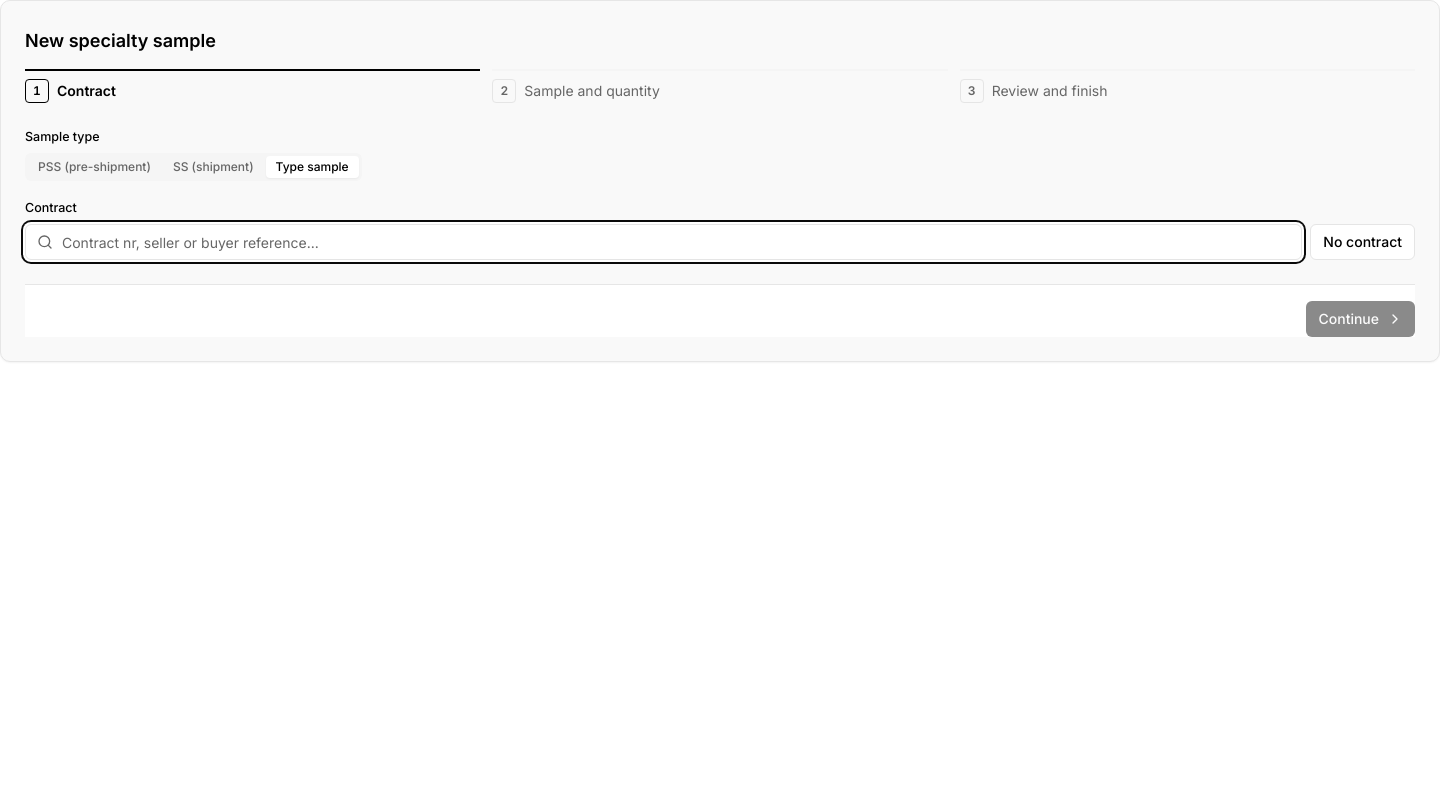
Test case: SampleIntakeForm — specialty only › drops a commodity quality and lists only the specialty ones
Click the button "No contract" at (1363, 242), box 1310,224 -> 1415,260
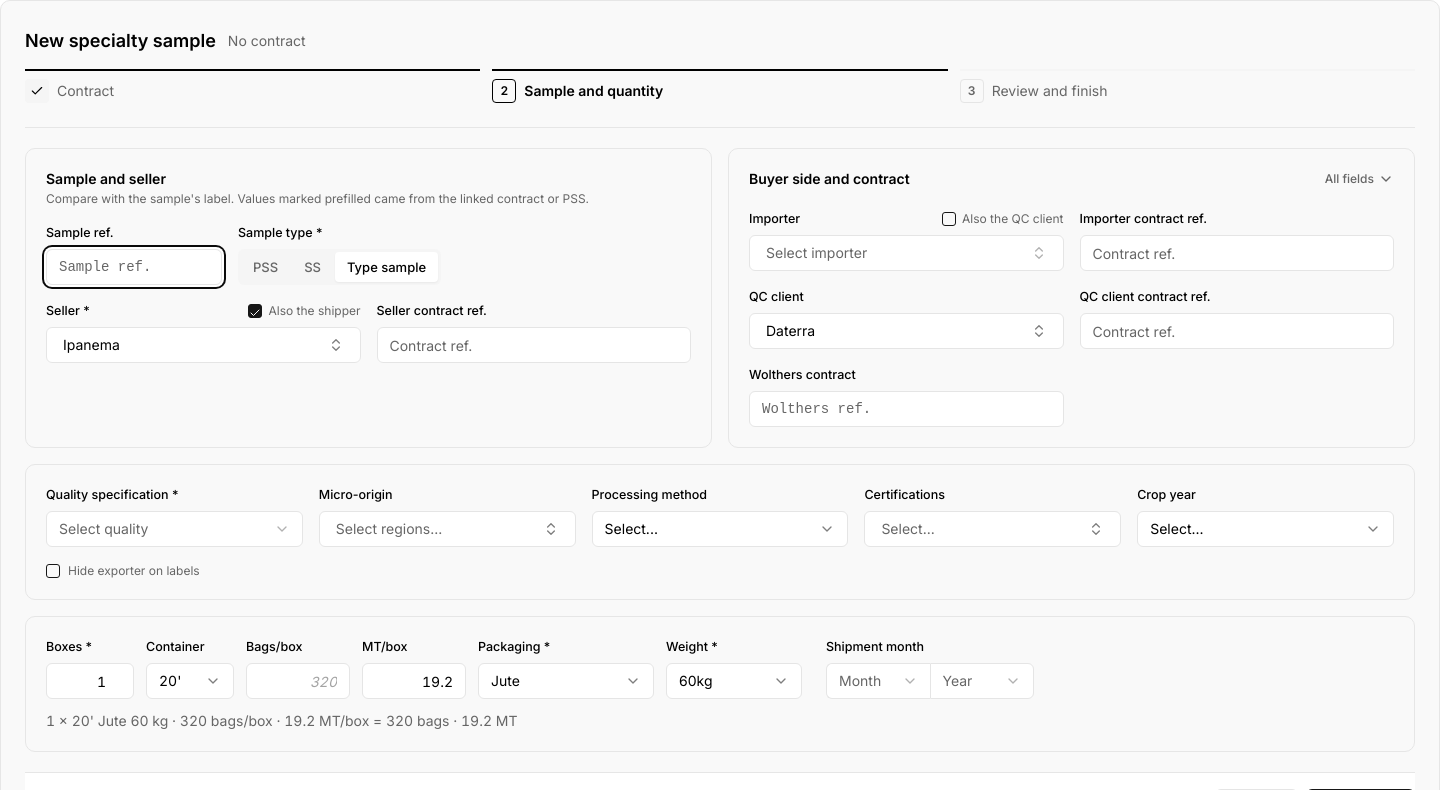
Check: the list item "2 Sample and quantity" is shown, box 492,69 -> 948,103
Check: the dropdown labelled "Select quality" is shown
Press Enter in the dropdown labelled "Select quality", box 46,511 -> 303,547
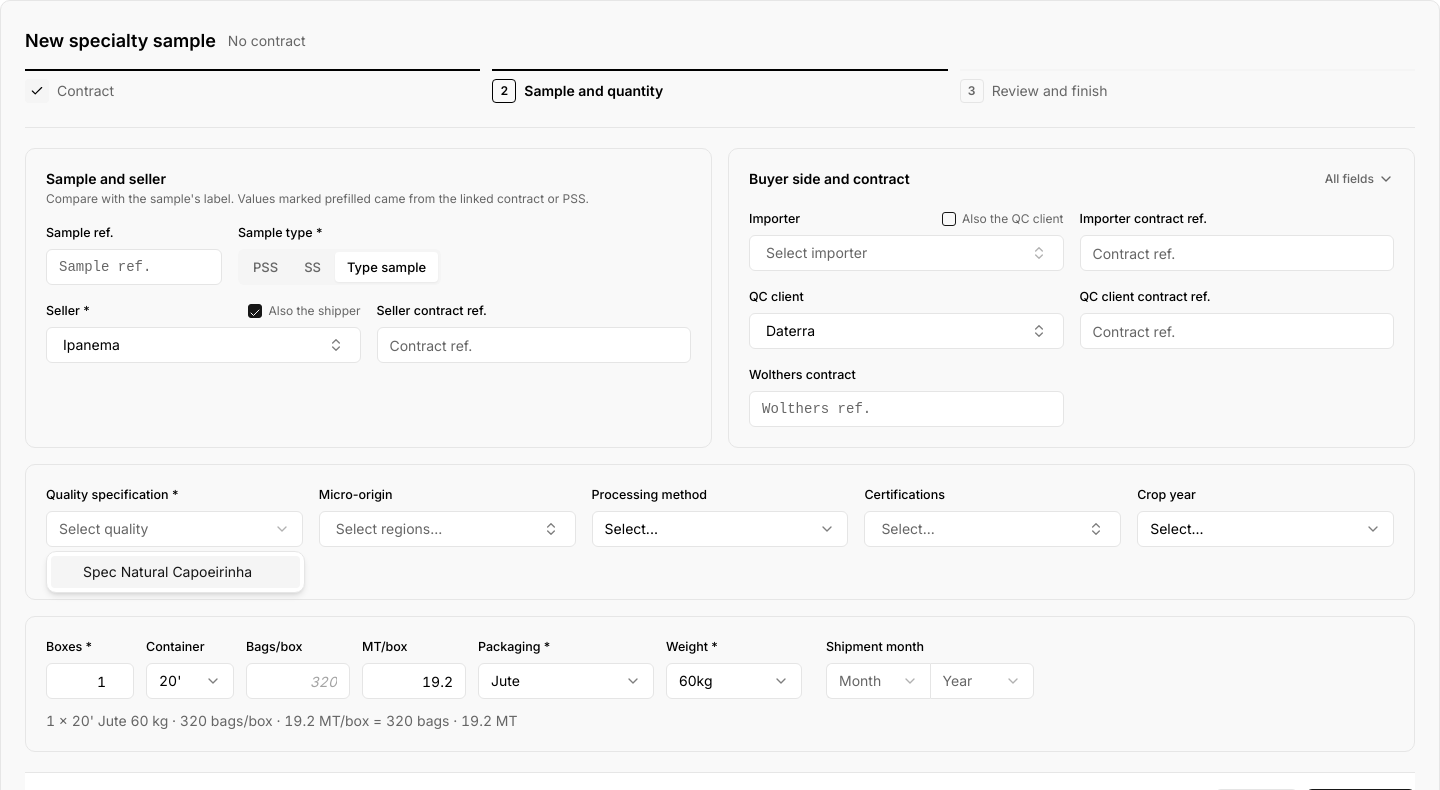
Check: the option "Spec Natural Capoeirinha" is shown, box 51,556 -> 300,588
